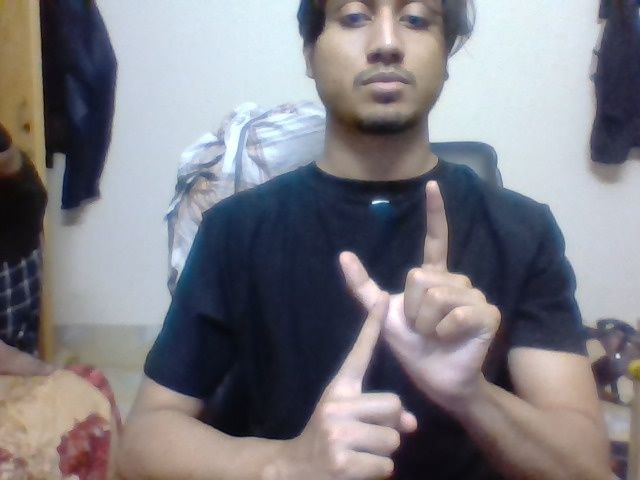Y: (334, 174, 453, 377)
